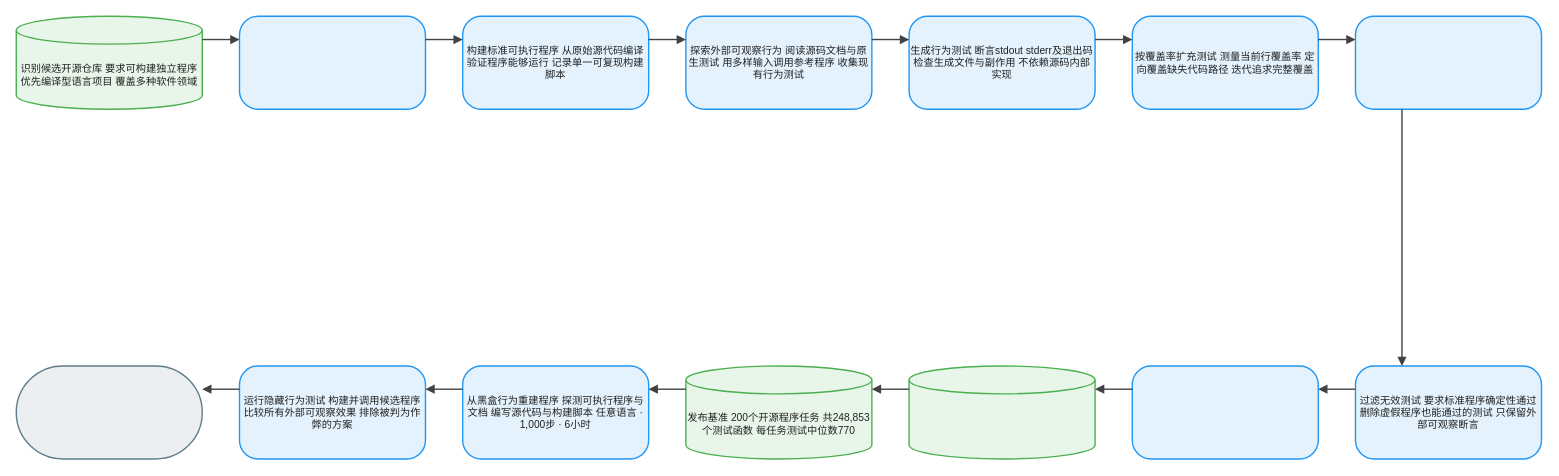
Image size: 1559x476. Some labels were removed from this diagram. Here are the shapes that lost their labels. From the top down, the centre of each, then its label:
At (332,62): "标准化采集Agent mini-SWE-agent框架 Claude Sonnet 4.5 Ubuntu 22.04 Docker容器".
At (1448,62): "检查断言质量 标记仅退出码检查 标记短子串与或式断言 提示Agent修复弱测试".
At (109,412): "评估行为等价性 Resolved：全部测试通过 Tests Passed：衡量部分进展 Almost：至少95%测试通过".
At (1001,412): "构建离线任务镜像 注入只可执行标准程序 加入清理后文档与必需资产 禁网并禁止读取二进制".
At (1225,412): "移除实现细节 删除源代码与原始测试 清理使用文档 仅保留任务可见信息".
